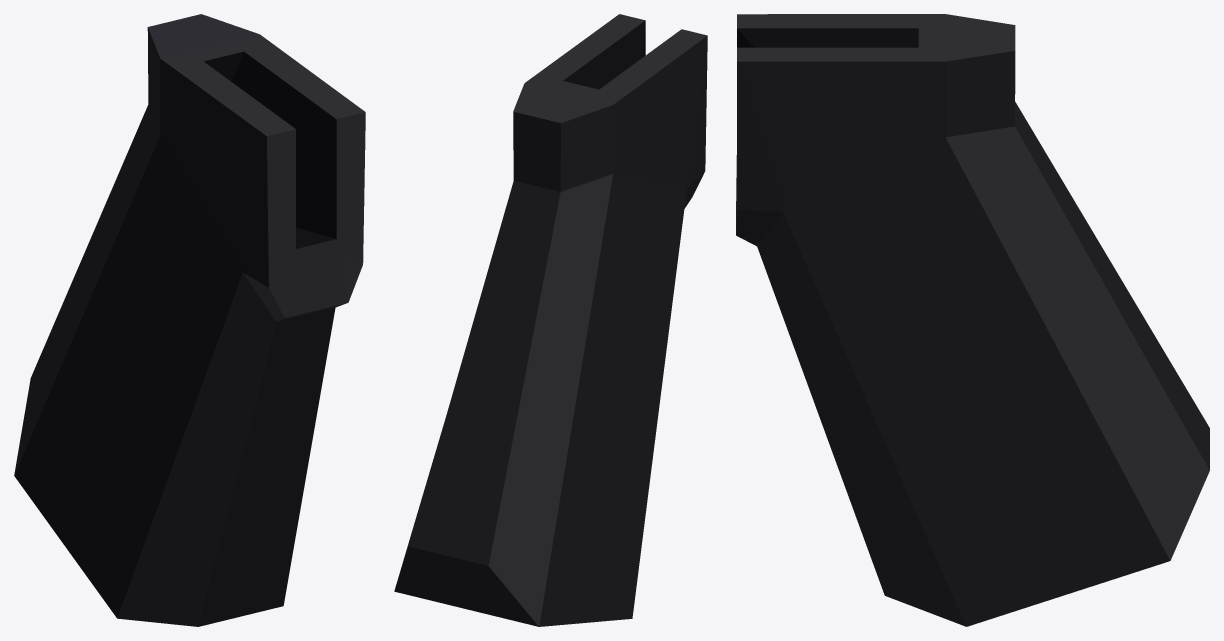
The model's file is MW1_Handle_02.fbx.
The picture shows the model from 3 angles, left to right: view 1: azimuth 30°, elevation 25°; view 2: azimuth 150°, elevation 25°; view 3: azimuth 270°, elevation 25°; orthographic projection. The views are drawn at different scales.
Parts seen in each view (by area): view 1: Handle_02; view 2: Handle_02; view 3: Handle_02.
Boxes of the visible parts, <box> form: Handle_02: <box>14,14,365,626</box>; Handle_02: <box>394,14,707,626</box>; Handle_02: <box>736,14,1209,626</box>.
Size of the model in its own units: 3.76 by 12.24 by 9.56.
